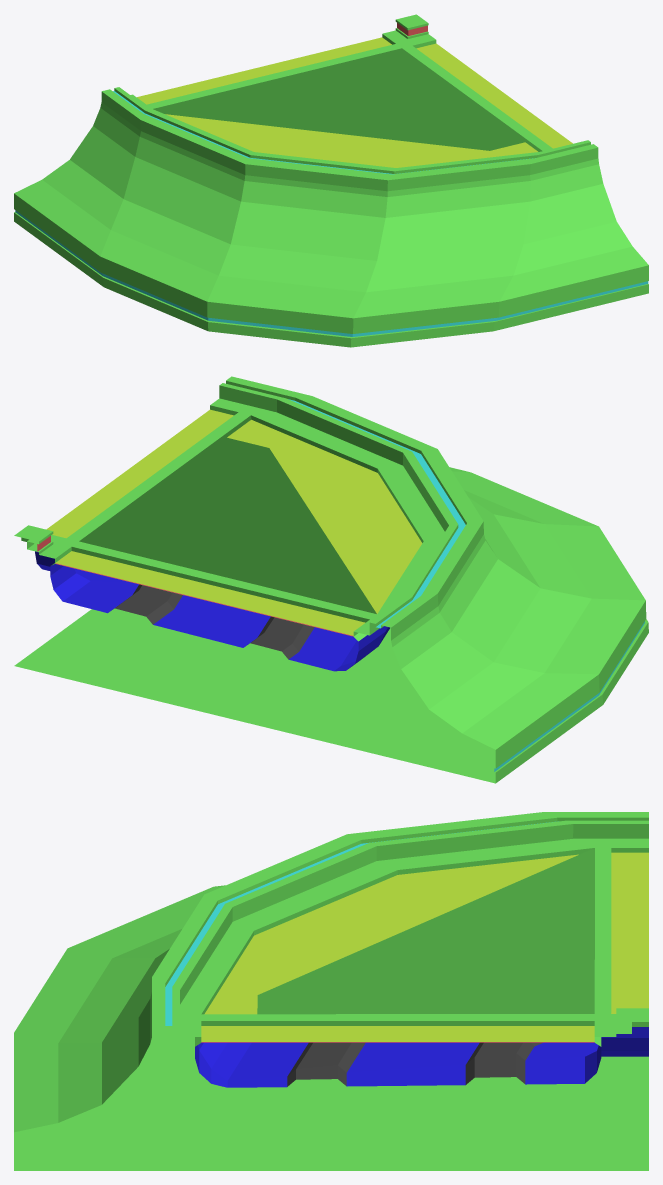
The model's file is Interior_Deco_02_Corner.fbx.
3 renders of one model, top to bottom at view 1: azimuth 30°, elevation 25°; view 2: azimuth 150°, elevation 25°; view 3: azimuth 270°, elevation 25°, orthographic. The views are drawn at different scales.
Visible parts, largest first — view 1: Interior_Deco_02_Corner; view 2: Interior_Deco_02_Corner; view 3: Interior_Deco_02_Corner.
Part boxes in pixels (x1,y1,x2,y2): Interior_Deco_02_Corner: [14, 14, 648, 347]; Interior_Deco_02_Corner: [14, 376, 648, 783]; Interior_Deco_02_Corner: [14, 812, 648, 1170].
Bounding box in the file's own units: 197 × 50.8 × 197.
